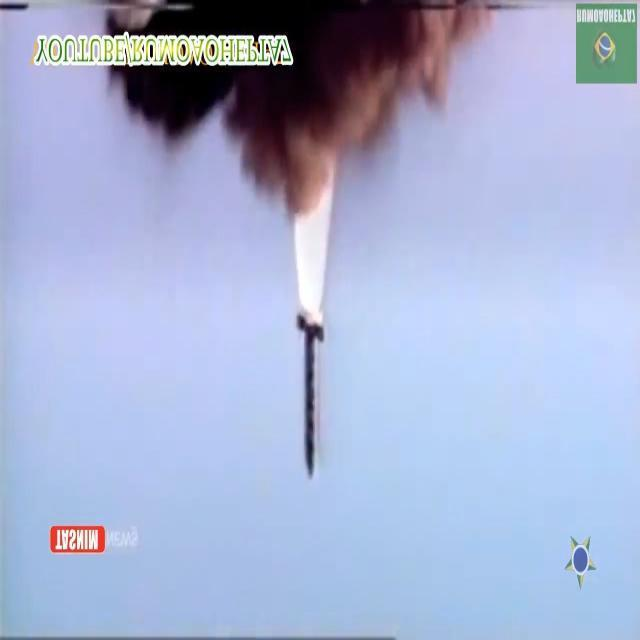Missile: (296, 293, 330, 491)
